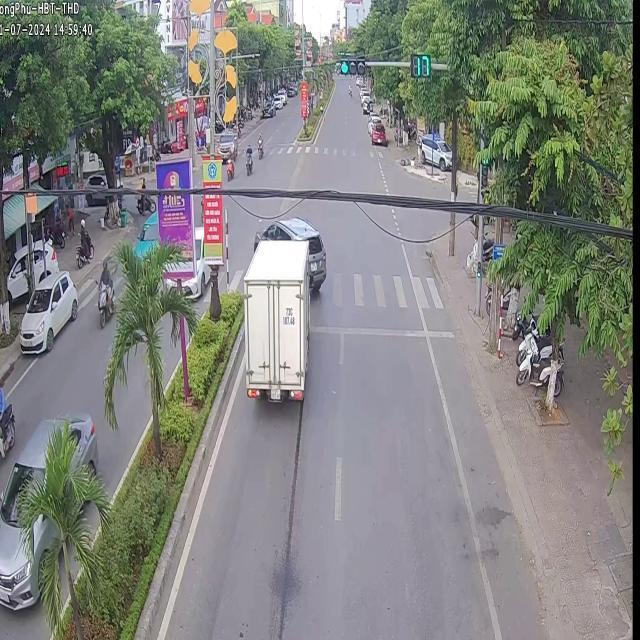car: (0, 409, 97, 607), (242, 236, 308, 400), (252, 216, 324, 289), (18, 269, 76, 352), (180, 225, 208, 296), (133, 209, 157, 256), (418, 134, 449, 169), (217, 127, 236, 160), (369, 120, 386, 144)
green_light: (411, 51, 428, 80), (339, 59, 365, 76)
motobike: (514, 314, 550, 374), (514, 331, 550, 385), (96, 258, 113, 325), (0, 388, 13, 456), (552, 342, 562, 394), (224, 154, 233, 178), (244, 145, 250, 174), (256, 131, 262, 156), (557, 340, 562, 365)
stop_line: (309, 325, 451, 336)
